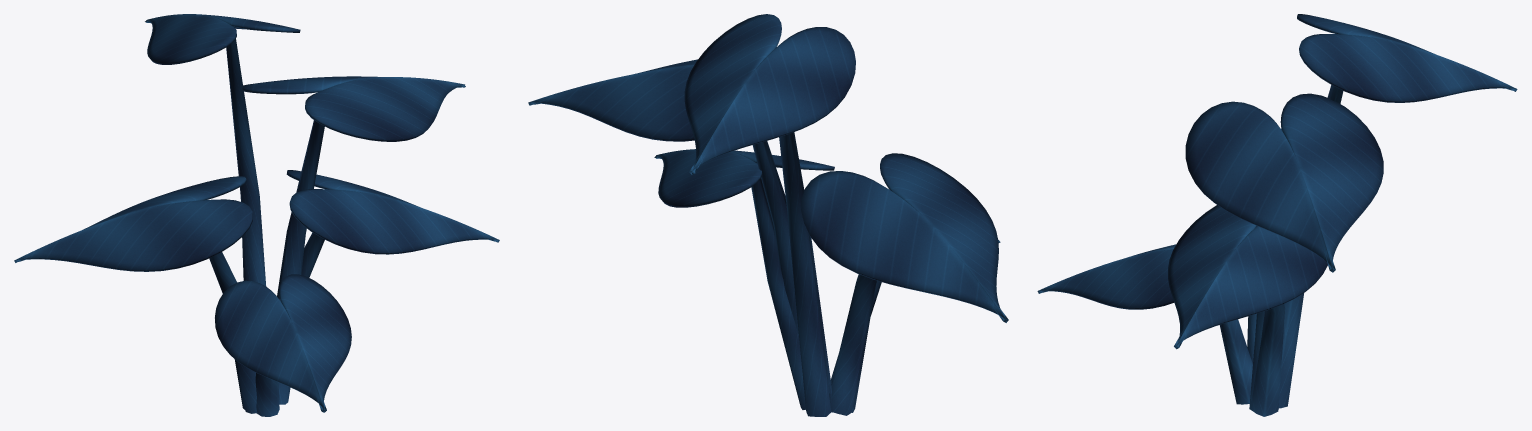
File: blue-heart-large.glb
3 renders of one model, left to right at view 1: azimuth 30°, elevation 25°; view 2: azimuth 150°, elevation 25°; view 3: azimuth 270°, elevation 25°, orthographic. The views are drawn at different scales.
Parts seen in each view (by area): view 1: blue-heart-large_ground-blue; view 2: blue-heart-large_ground-blue; view 3: blue-heart-large_ground-blue.
Boxes of the visible parts, x1,y1,x2,y2 form: blue-heart-large_ground-blue: (14,14,499,416); blue-heart-large_ground-blue: (528,14,1008,416); blue-heart-large_ground-blue: (1037,14,1517,416).
Bounding box in the file's own units: 1.35 × 1.05 × 1.21.
Materials: 1 (1 with a texture image).
